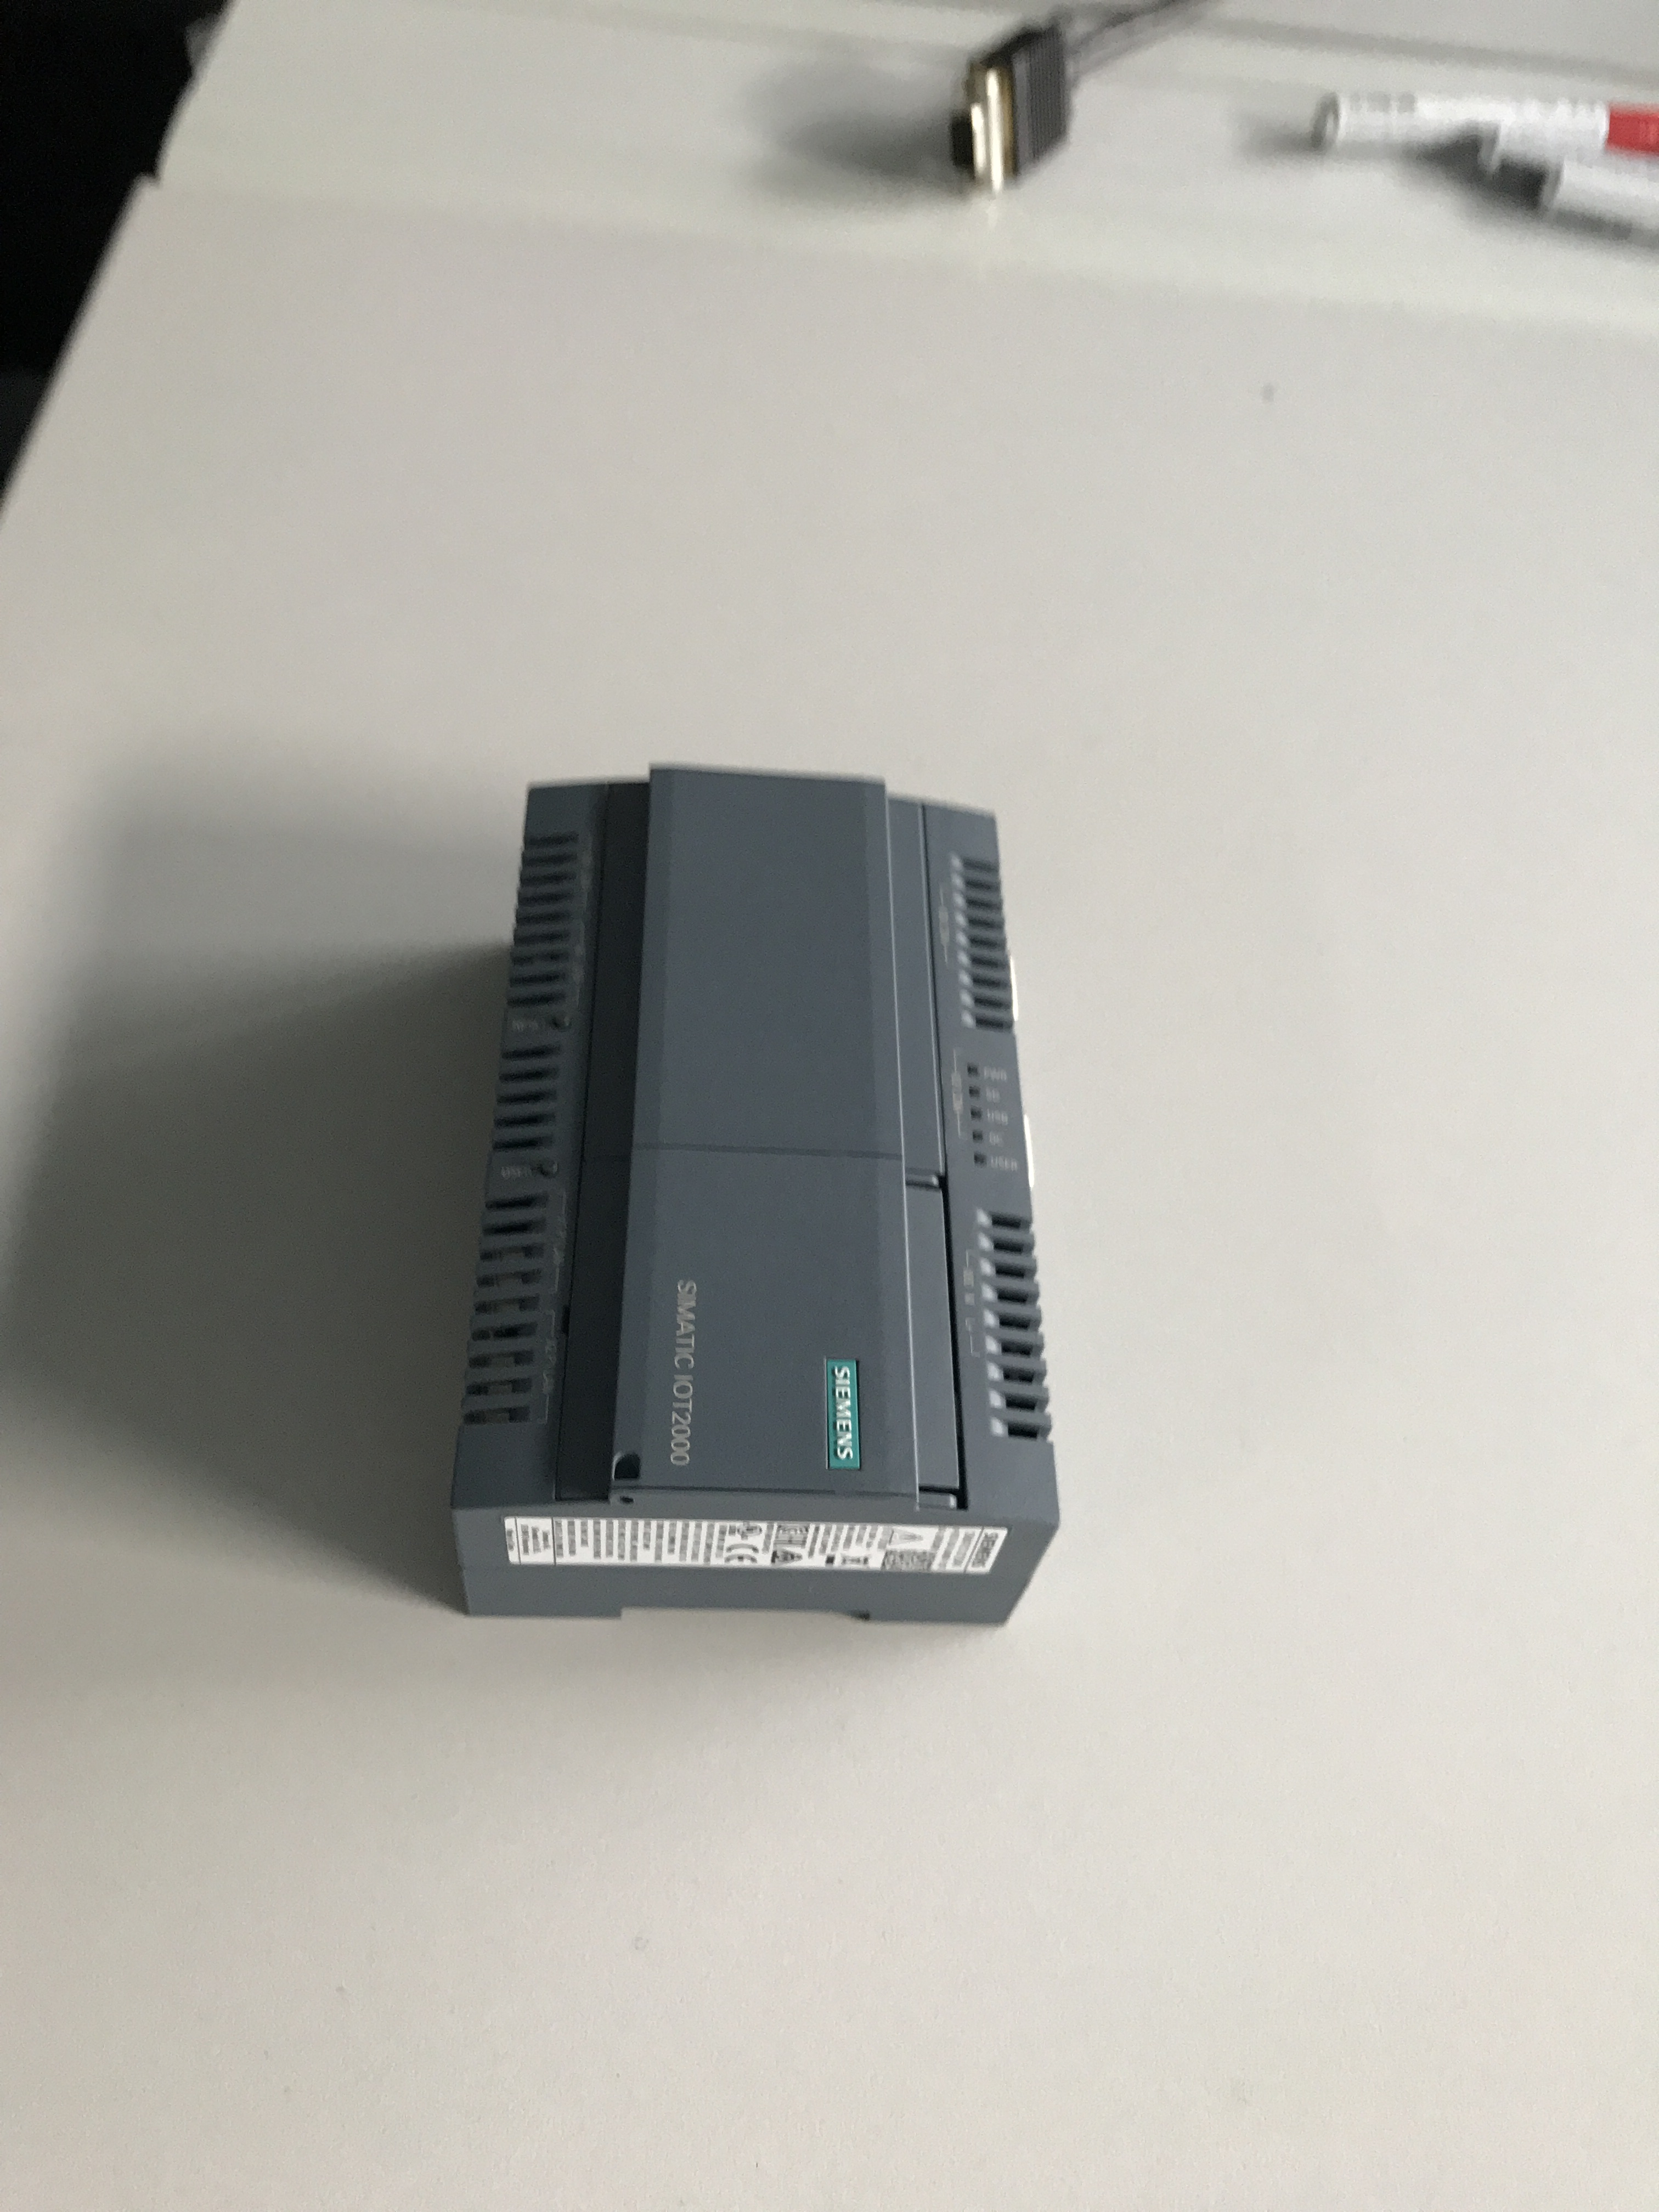device: (448, 765, 1063, 1629)
